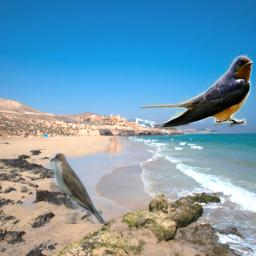Cuckoo: (50, 153, 107, 224)
Swallow: (140, 54, 253, 127)
